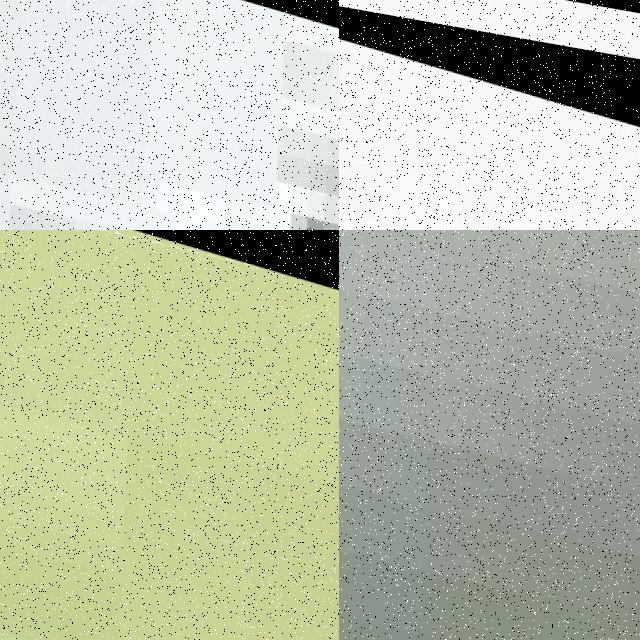0: (0, 230, 339, 640), (0, 0, 339, 230)
drone: (339, 230, 640, 640), (339, 0, 640, 230)
